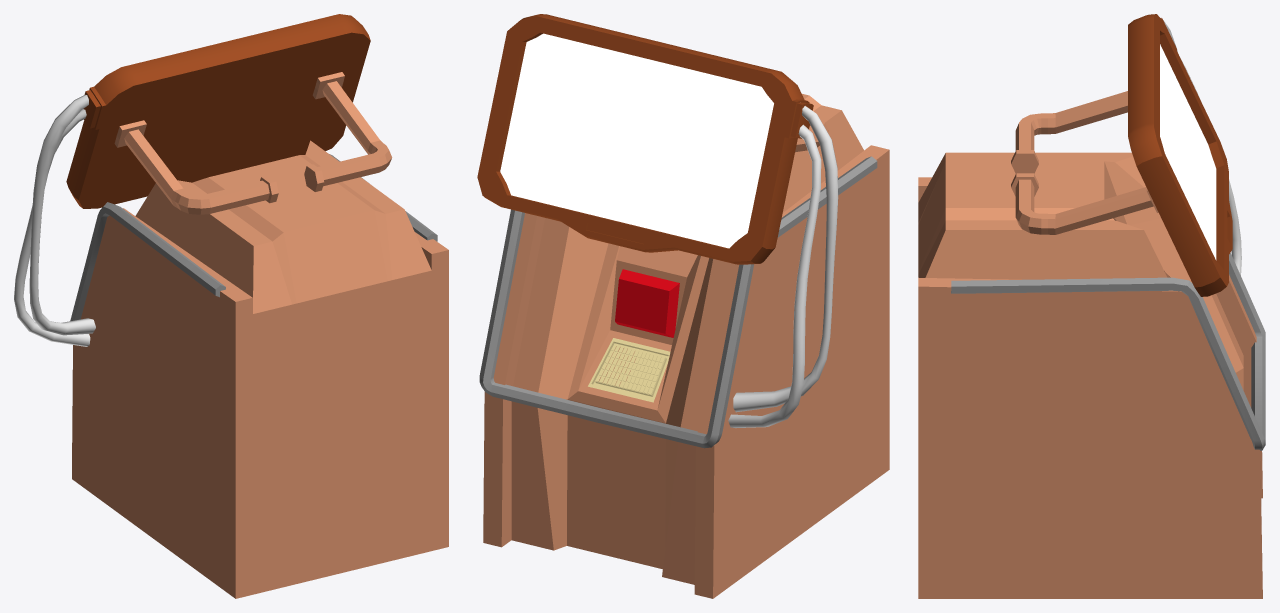
Rendered from LP_OrdenadorCentral 1.fbx.
3 renders of one model, left to right at view 1: azimuth 30°, elevation 25°; view 2: azimuth 150°, elevation 25°; view 3: azimuth 270°, elevation 25°, orthographic. The views are drawn at different scales.
Visible parts, largest first — view 1: BaseOrdenador, Pantalla, BarrasOrdenador, NurbsPath.004, NurbsPath.005; view 2: BaseOrdenador, Pantalla, BarrasOrdenador, NurbsPath.004, NurbsPath.005; view 3: BaseOrdenador, Pantalla, BarrasOrdenador, NurbsPath.005.
Boxes of the visible parts, bbox=[...] form: BaseOrdenador: bbox=[72, 72, 448, 598]; Pantalla: bbox=[66, 14, 370, 208]; BarrasOrdenador: bbox=[70, 154, 437, 321]; NurbsPath.004: bbox=[29, 94, 95, 335]; NurbsPath.005: bbox=[14, 109, 90, 346]; BaseOrdenador: bbox=[483, 94, 889, 598]; Pantalla: bbox=[477, 14, 813, 264]; BarrasOrdenador: bbox=[479, 156, 877, 448]; NurbsPath.004: bbox=[733, 106, 838, 412]; NurbsPath.005: bbox=[728, 124, 821, 427]; BaseOrdenador: bbox=[918, 91, 1262, 598]; Pantalla: bbox=[1128, 14, 1232, 296]; BarrasOrdenador: bbox=[951, 252, 1265, 450]; NurbsPath.005: bbox=[1179, 56, 1241, 275].
Size of the model in its own units: 236 by 321 by 214.
